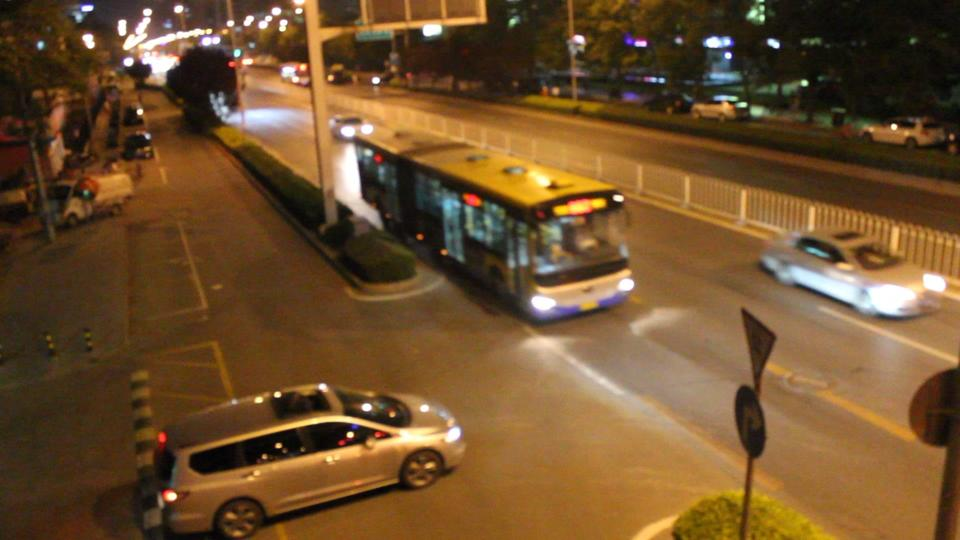bus: (348, 131, 637, 324)
car: (144, 382, 468, 540), (758, 229, 946, 320), (55, 164, 135, 227), (859, 116, 958, 151), (691, 95, 766, 122), (330, 114, 375, 141), (115, 100, 147, 128), (279, 62, 311, 86), (128, 132, 155, 159)
sign: (731, 306, 779, 457)
